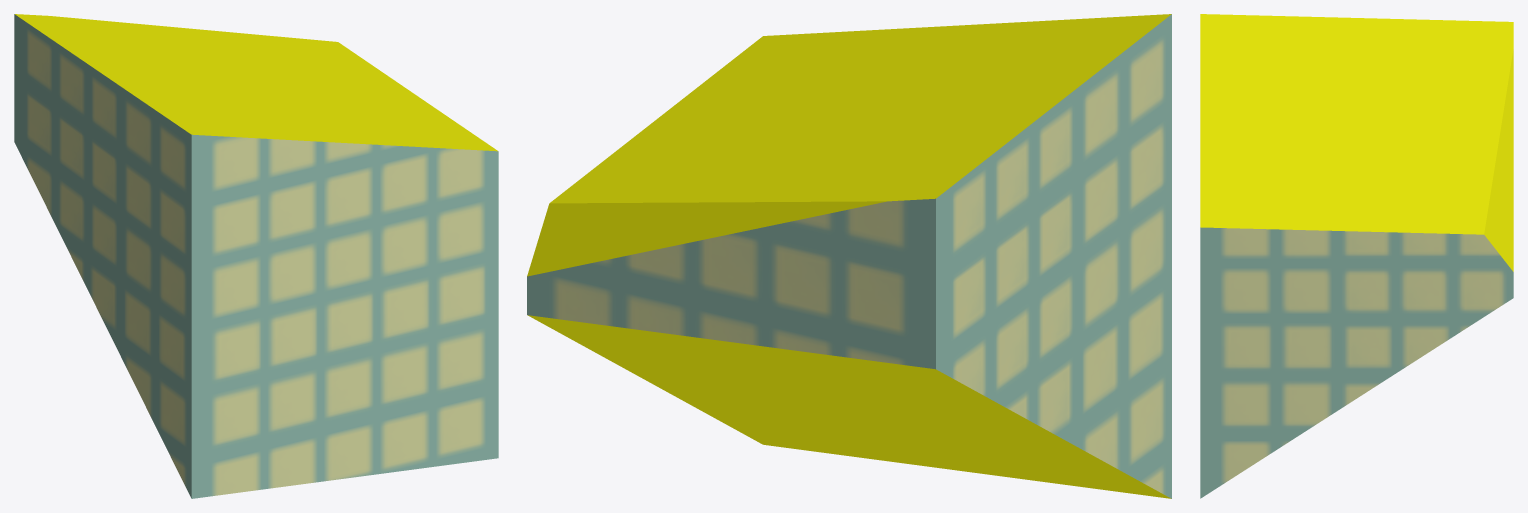
The model's file is c1Shard2.fbx.
3 renders of one model, left to right at view 1: azimuth 30°, elevation 25°; view 2: azimuth 150°, elevation 25°; view 3: azimuth 270°, elevation 25°, orthographic. The views are drawn at different scales.
Parts seen in each view (by area): view 1: shard52; view 2: shard52; view 3: shard52.
Part boxes in pixels (box(x1,y1,x2,y2)): shard52: box(14, 14, 498, 498); shard52: box(527, 14, 1171, 498); shard52: box(1200, 14, 1513, 498).
Bounding box in the file's own units: 0.0917 × 0.1137 × 0.0917.
Materials: 2 (1 with a texture image).
